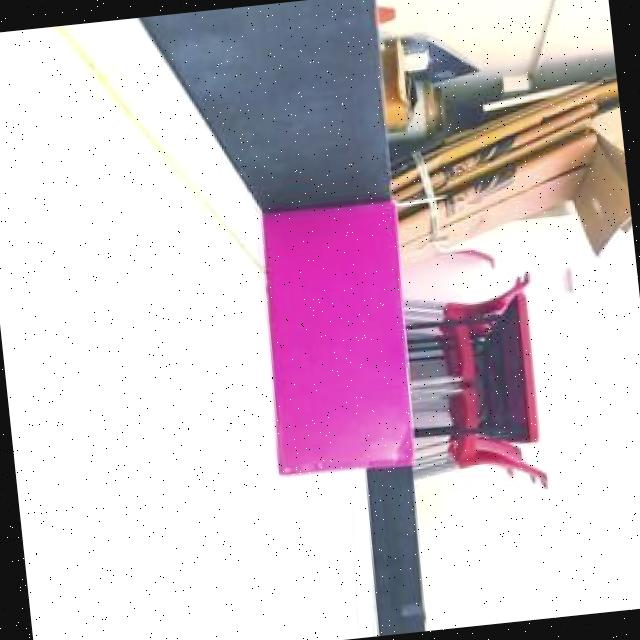xparking: (252, 200, 423, 480)
